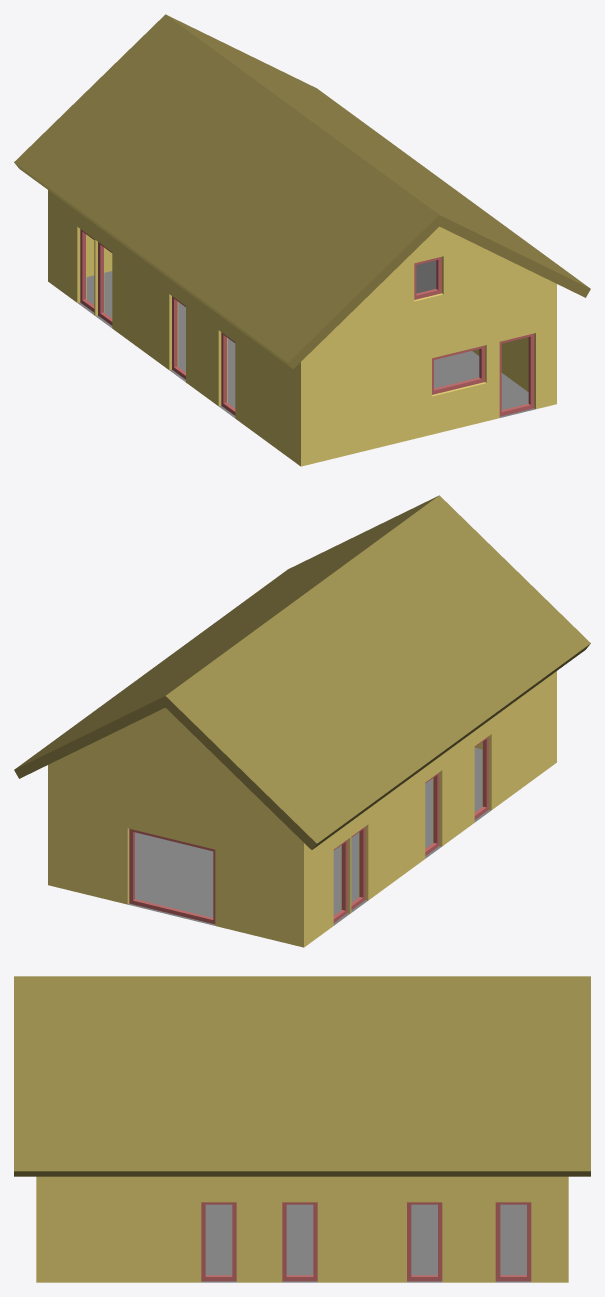
Rendered from result.glb.
The picture shows the model from 3 angles, top to bottom: view 1: azimuth 30°, elevation 25°; view 2: azimuth 150°, elevation 25°; view 3: azimuth 270°, elevation 25°; orthographic projection. The views are drawn at different scales.
Visible parts, largest first — view 1: 2ad0f6d9-d45c-4276-b159-e0f3161a715b__undefined (×2), 5398f763-04b4-4091-a4ab-73d318e43573__undefined, 95a82a2f-3c40-4e95-9839-ac8a57561577__Plane_20, 33a13fa7-4561-4d62-8bc5-494d6bade241__Box, db65a8ad-b834-4887-a682-c4a0a70b5927__Box_3, 60a00040-f09c-44ca-9696-65da2c50f305__Box_60; view 2: 2ad0f6d9-d45c-4276-b159-e0f3161a715b__undefined (×2), 5398f763-04b4-4091-a4ab-73d318e43573__undefined, 95a82a2f-3c40-4e95-9839-ac8a57561577__Plane_20, 22dfdf3f-658f-4f88-aa90-119deeb0f275__Box_9, 7db7a333-8d7d-4601-9475-efbf0282e817__Box_15, 3ccba0d0-1670-4152-8e5c-47485c6530ac__Box_18; view 3: 2ad0f6d9-d45c-4276-b159-e0f3161a715b__undefined, 5398f763-04b4-4091-a4ab-73d318e43573__undefined, 95a82a2f-3c40-4e95-9839-ac8a57561577__Plane_20, c6f5308a-e880-4498-83c1-9cfc966a56c8__Box_45, d92dda20-3884-4409-909a-6db1bbbca986__Box_36, a62a260c-8d86-4531-943d-e54168f6d452__Box_39, d9031608-389d-449e-af7d-30c2805dd51b__Box_42.
Part boxes in pixels (<box>): 2ad0f6d9-d45c-4276-b159-e0f3161a715b__undefined (×2): <box>14,14,590,368</box>; 5398f763-04b4-4091-a4ab-73d318e43573__undefined: <box>48,190,556,466</box>; 95a82a2f-3c40-4e95-9839-ac8a57561577__Plane_20: <box>78,271,535,418</box>; 33a13fa7-4561-4d62-8bc5-494d6bade241__Box: <box>499,333,534,416</box>; db65a8ad-b834-4887-a682-c4a0a70b5927__Box_3: <box>432,345,485,394</box>; 60a00040-f09c-44ca-9696-65da2c50f305__Box_60: <box>416,260,436,293</box>; 2ad0f6d9-d45c-4276-b159-e0f3161a715b__undefined (×2): <box>14,495,590,849</box>; 5398f763-04b4-4091-a4ab-73d318e43573__undefined: <box>48,671,556,947</box>; 95a82a2f-3c40-4e95-9839-ac8a57561577__Plane_20: <box>128,747,490,925</box>; 22dfdf3f-658f-4f88-aa90-119deeb0f275__Box_9: <box>129,828,215,924</box>; 7db7a333-8d7d-4601-9475-efbf0282e817__Box_15: <box>425,772,439,855</box>; 3ccba0d0-1670-4152-8e5c-47485c6530ac__Box_18: <box>351,826,365,909</box>; 2ad0f6d9-d45c-4276-b159-e0f3161a715b__undefined: <box>14,976,590,1176</box>; 5398f763-04b4-4091-a4ab-73d318e43573__undefined: <box>36,1176,568,1282</box>; 95a82a2f-3c40-4e95-9839-ac8a57561577__Plane_20: <box>201,1204,531,1282</box>; c6f5308a-e880-4498-83c1-9cfc966a56c8__Box_45: <box>495,1202,531,1281</box>; d92dda20-3884-4409-909a-6db1bbbca986__Box_36: <box>201,1202,236,1281</box>; a62a260c-8d86-4531-943d-e54168f6d452__Box_39: <box>282,1202,317,1281</box>; d9031608-389d-449e-af7d-30c2805dd51b__Box_42: <box>407,1202,442,1281</box>.
Size of the model in its own units: 831 by 598 by 1301.
